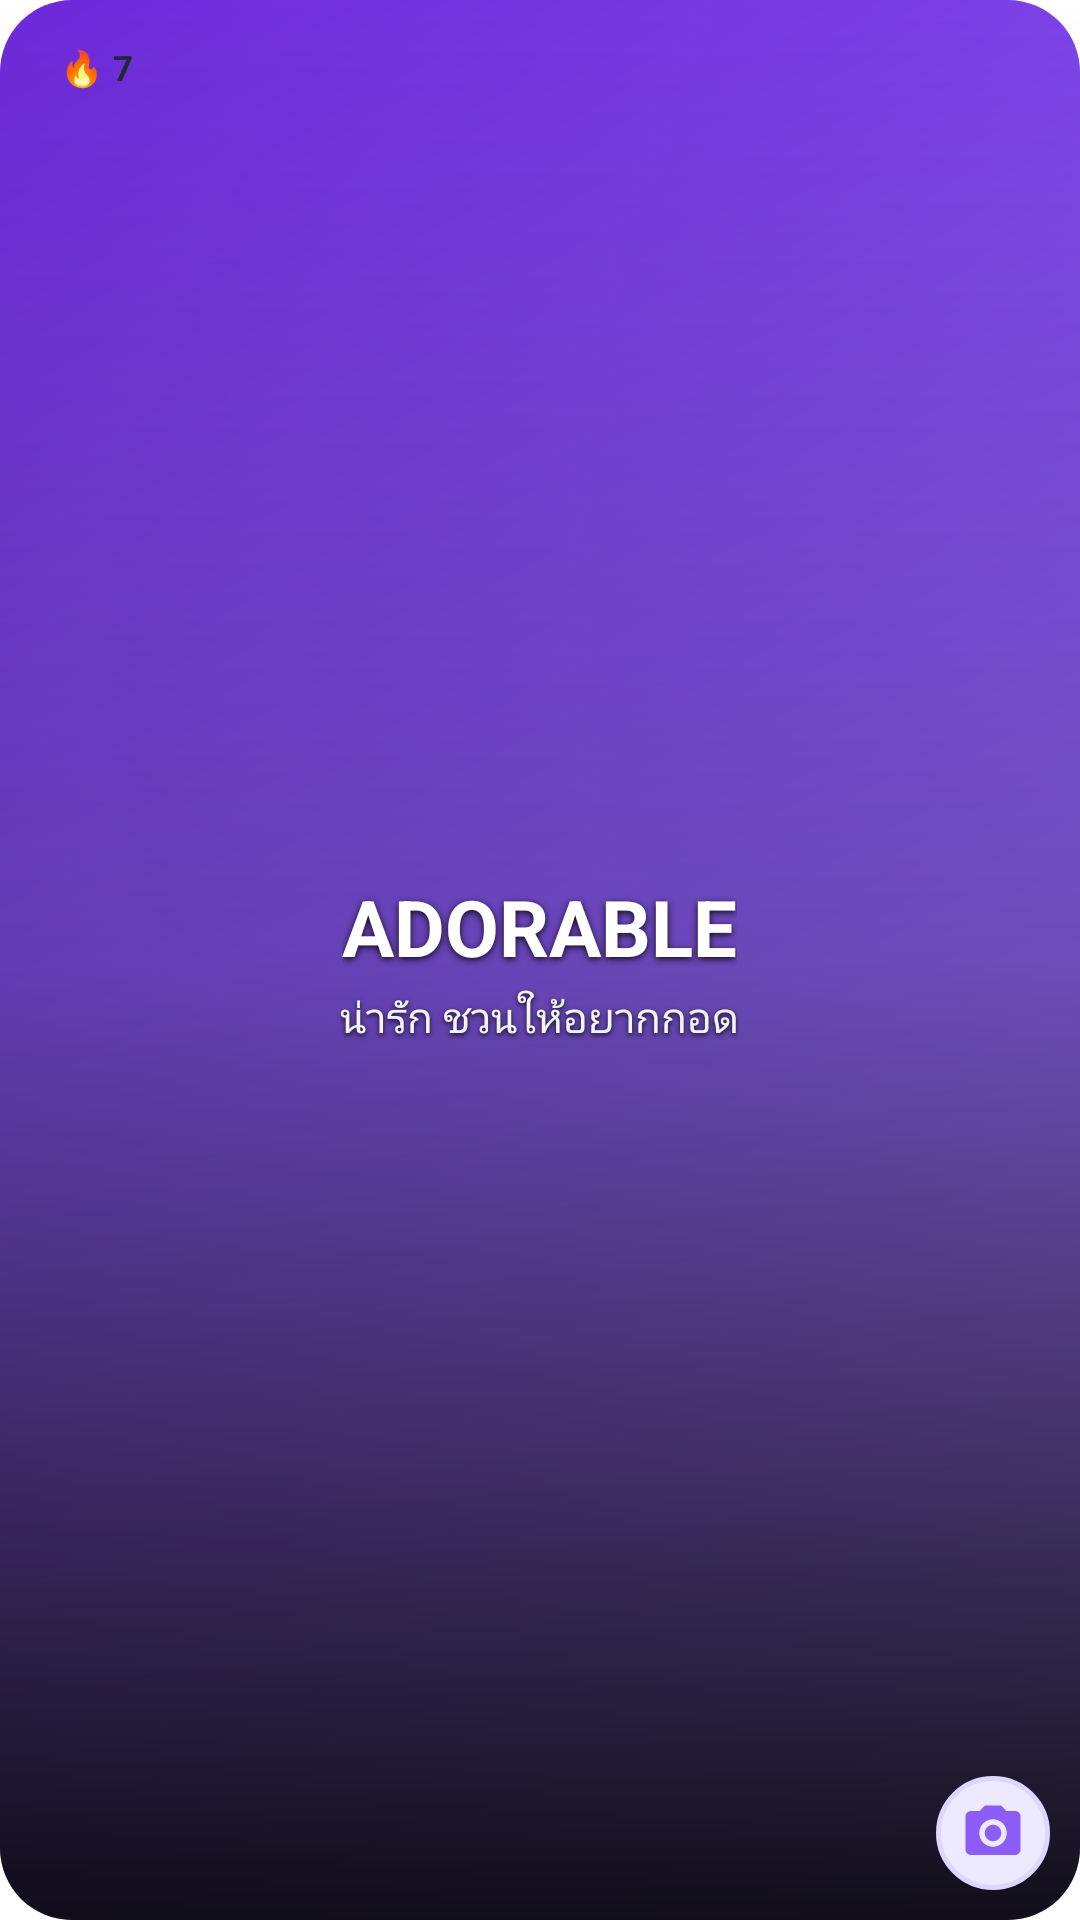

Icon bounding boxes for this 1080px x 1920px phone screenshot, format (x1, y1, x2, y2):
Take photo: (936, 1776, 1050, 1890)
